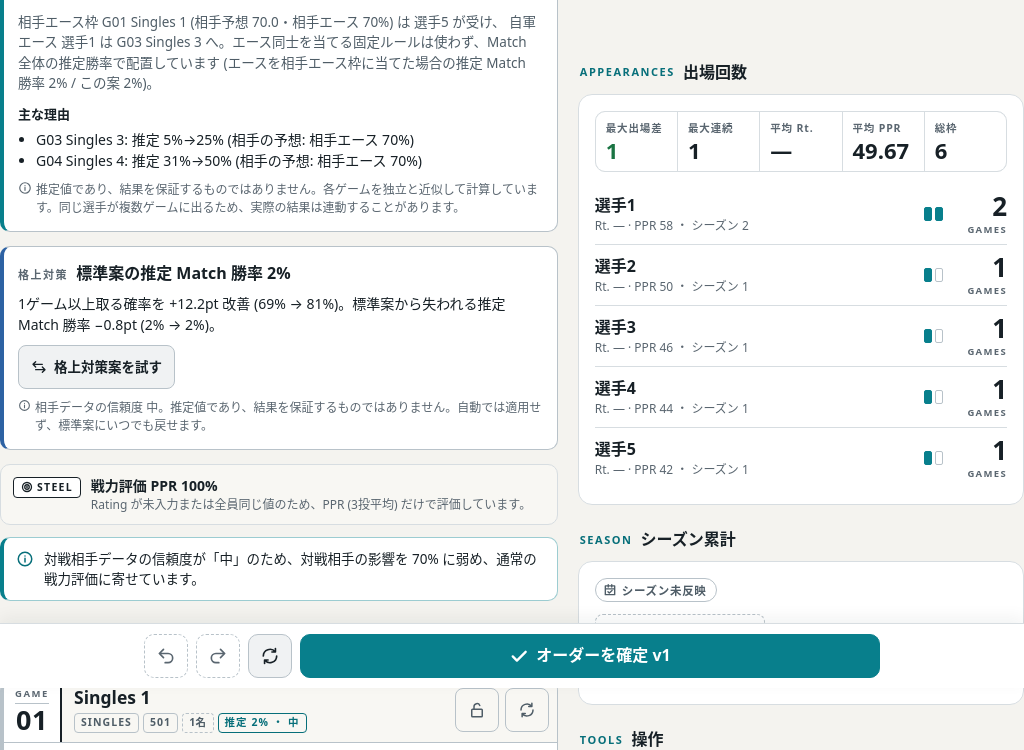
Test: the underdog plan on the result screen › is offered in one tap with its reason, switches the order, and comes back in one tap
(page scrolled)
Expected: the element with test id "underdog-panel" shows "推定 Match 勝率", left=76, top=262, right=291, bottom=284
Step 1. Click the button "格上対策案を試す" → (96, 367), box left=18, top=345, right=175, bottom=389
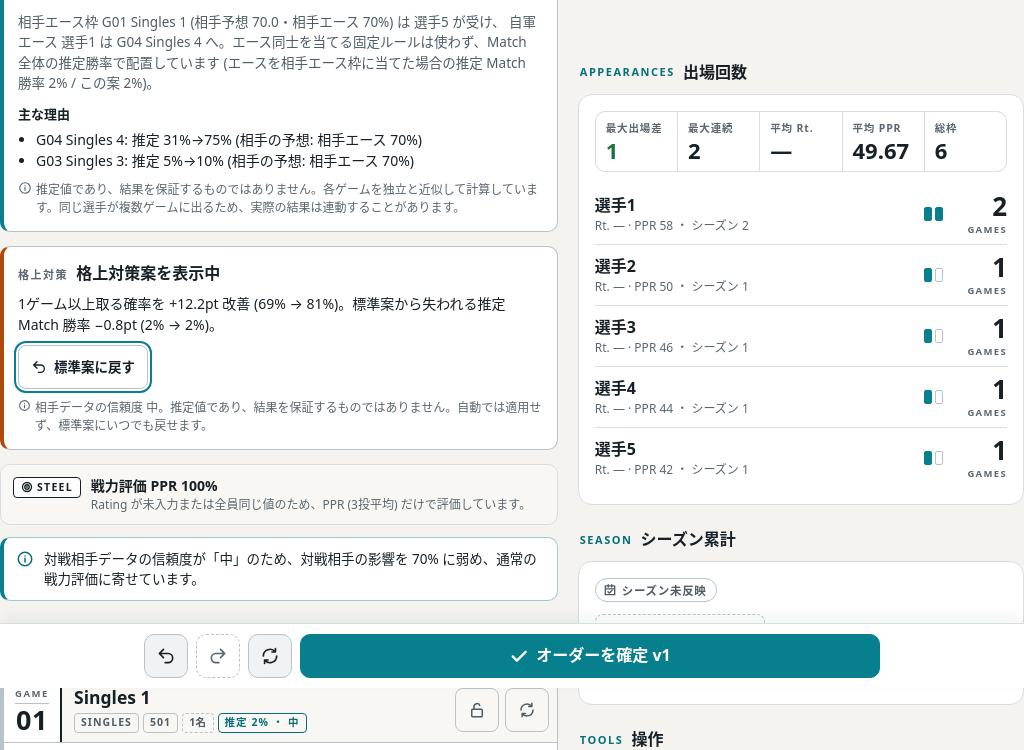
Now the element with test id "underdog-panel" shows "格上対策案を表示中", box left=76, top=262, right=220, bottom=284
Step 2. Click the button "標準案に戻す" → (83, 367), box left=18, top=345, right=148, bottom=389
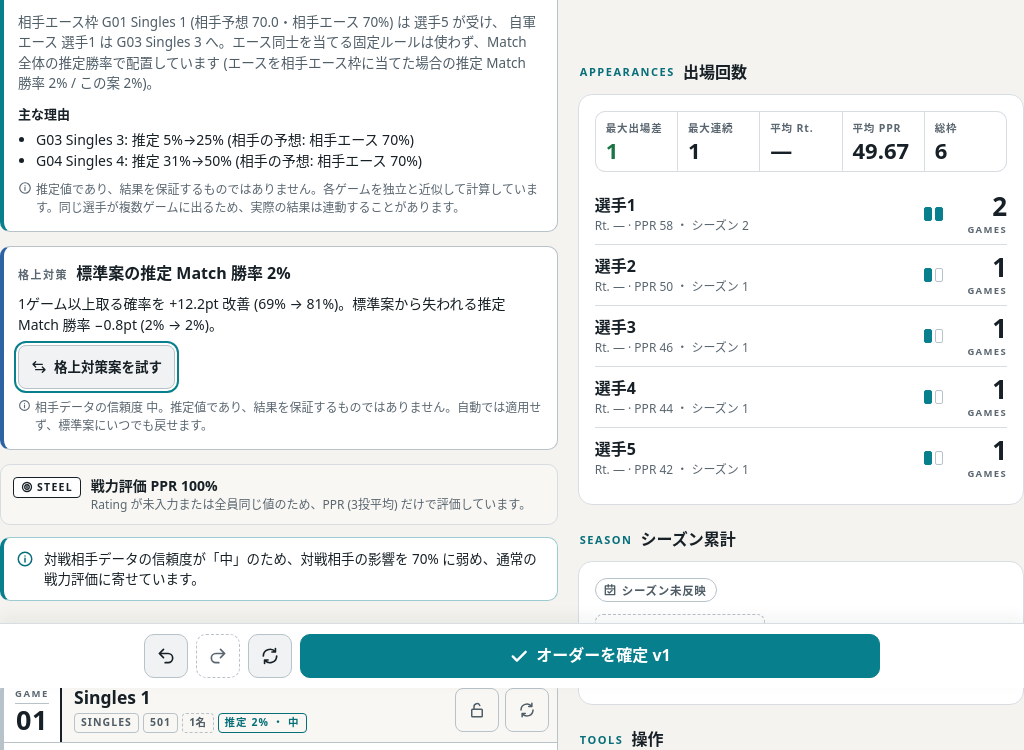
Now the button "格上対策案を試す" is shown, box left=18, top=345, right=175, bottom=389
